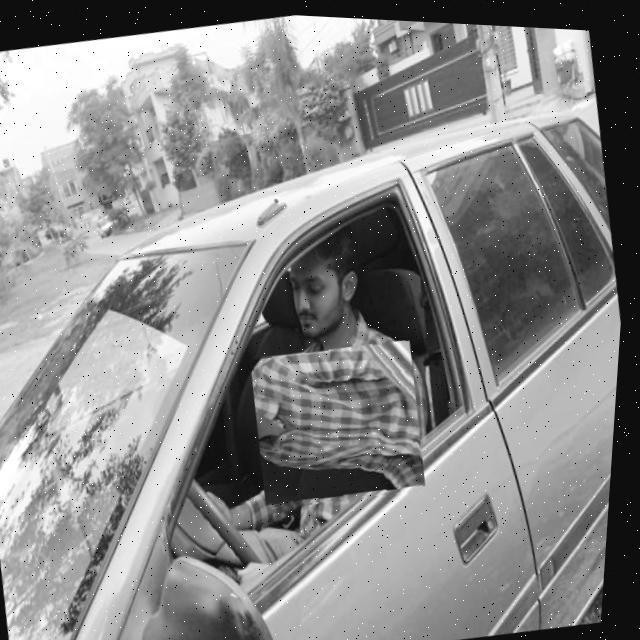no-seatbelt: (249, 326, 438, 512)
